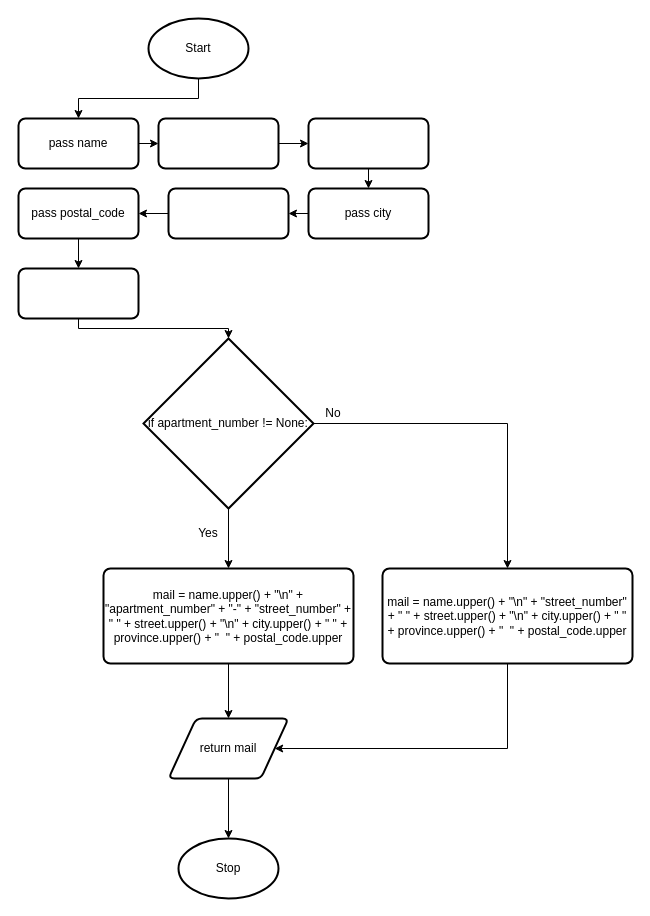
This 650x916 diagram has some shape labels left out. Each missing label, with the centre of its shape:
"pass apartment_number = None" belongs at pixel 78 293.
"pass province" belongs at pixel 228 213.
"pass street" belongs at pixel 368 143.
"pass street_name" belongs at pixel 218 143.
